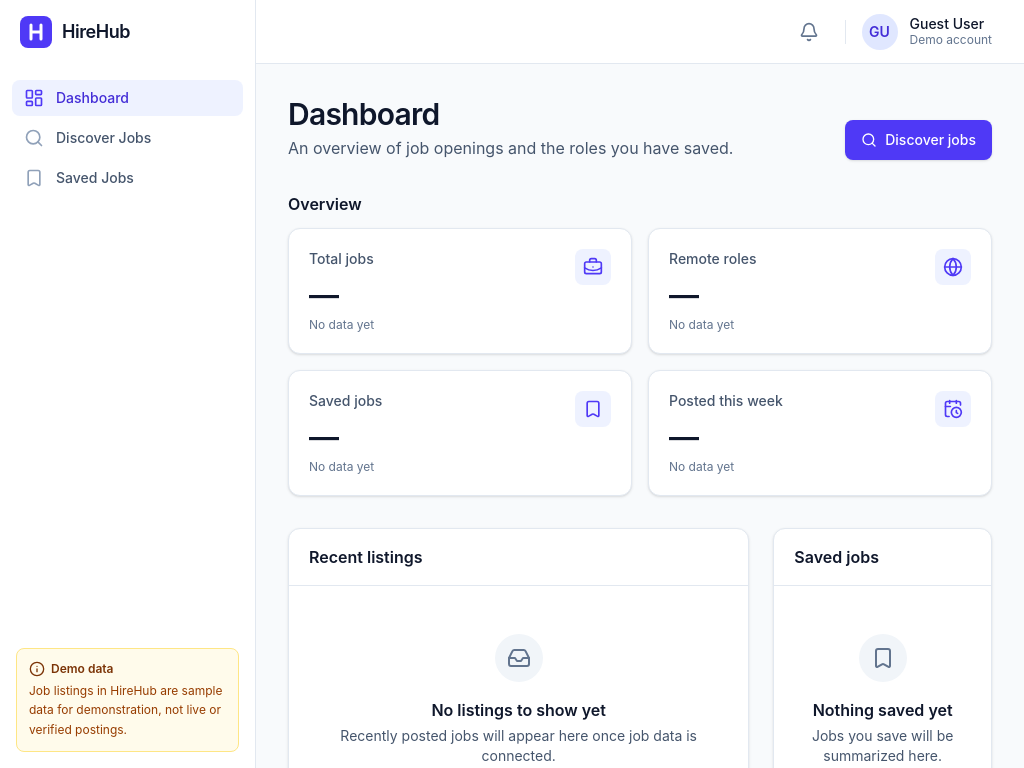
notifications panel › stays open when clicked inside and closes when clicking elsewhere
Click the button named "Notifications": (808, 32) [788,12,828,52]
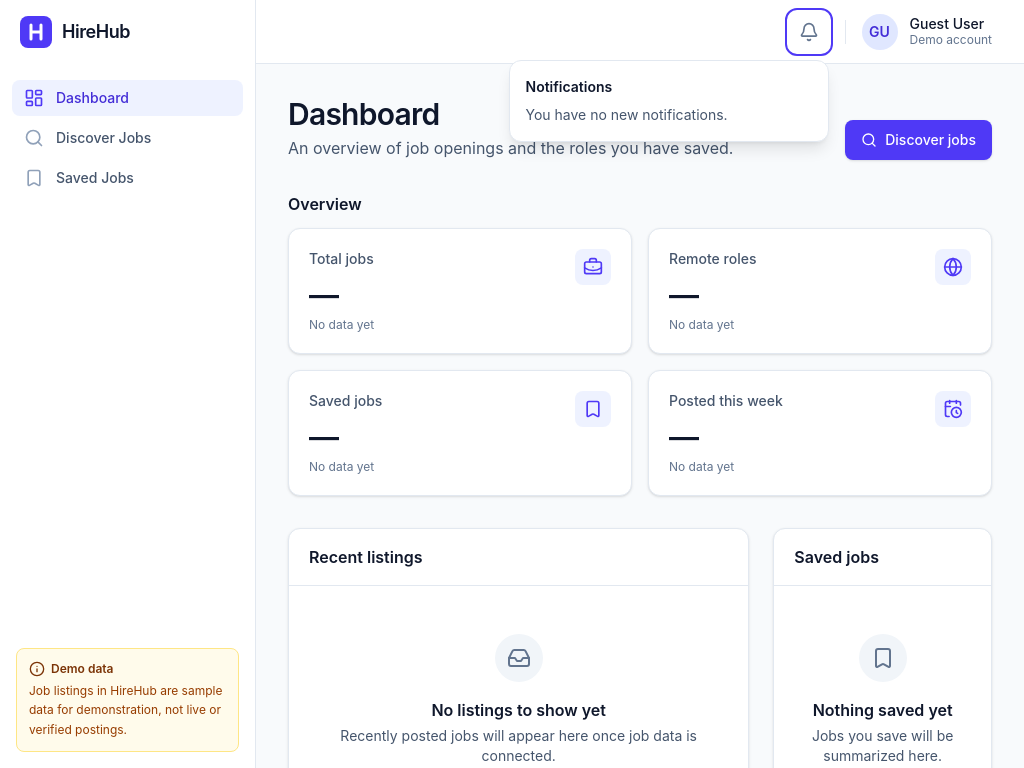
Click the text "You have no new notifications.": (627, 114) [526,106,728,122]
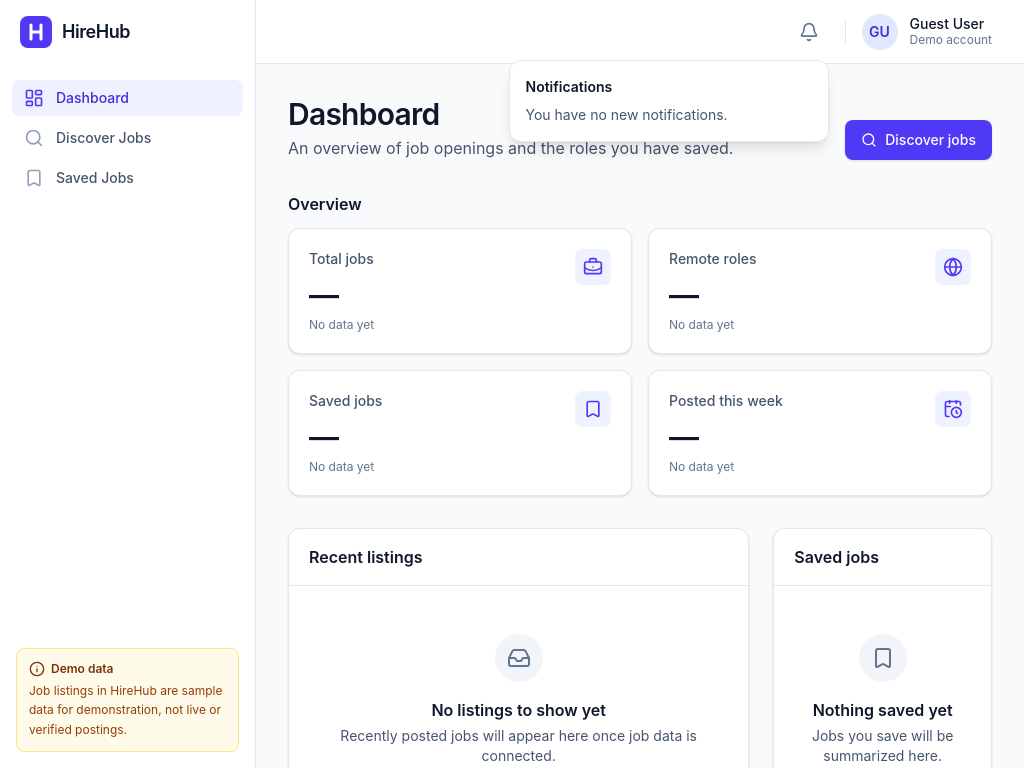
Expected: the element "Notifications" is shown, [508,60,828,142]
Click the heading "Dashboard": (364, 114) [288,96,440,132]
(page scrolled)
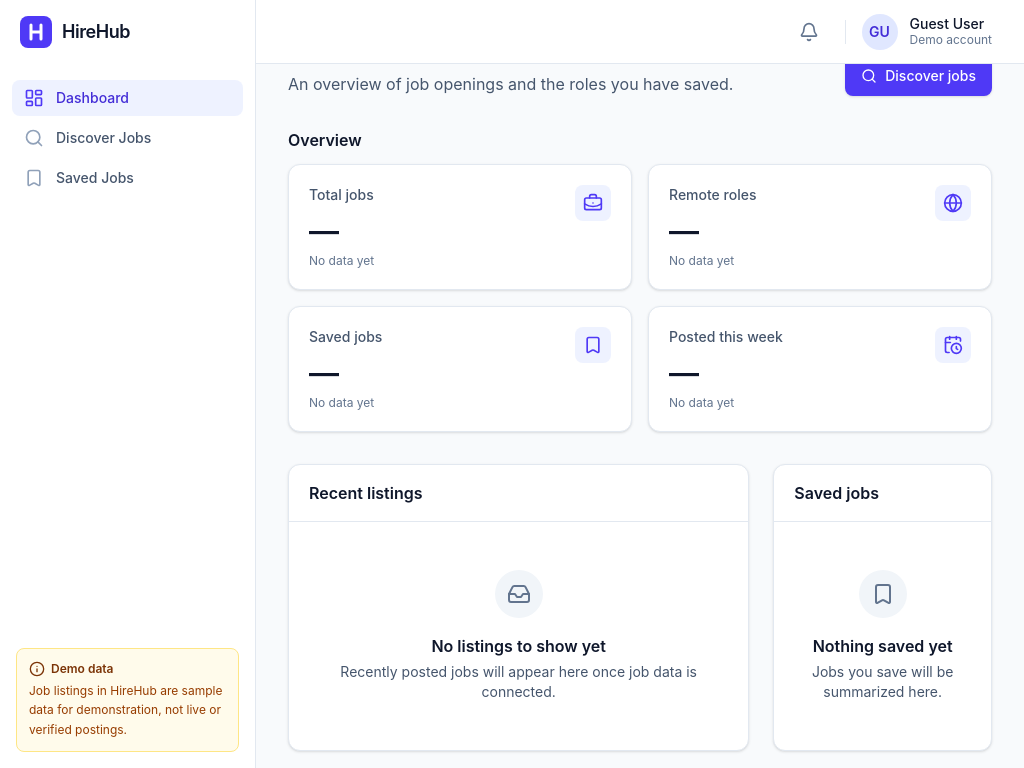
Expected: the heading "Notifications" is gone
